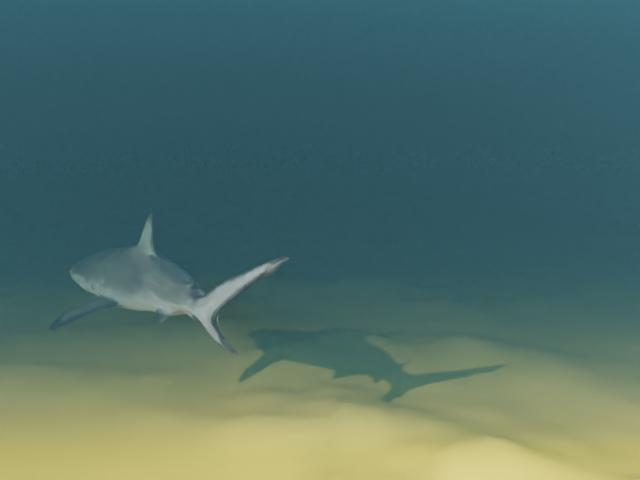Carribean Shark.001: (48, 213, 288, 355)
